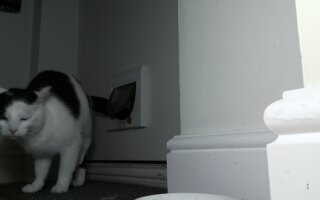bad: (1, 72, 108, 194)
